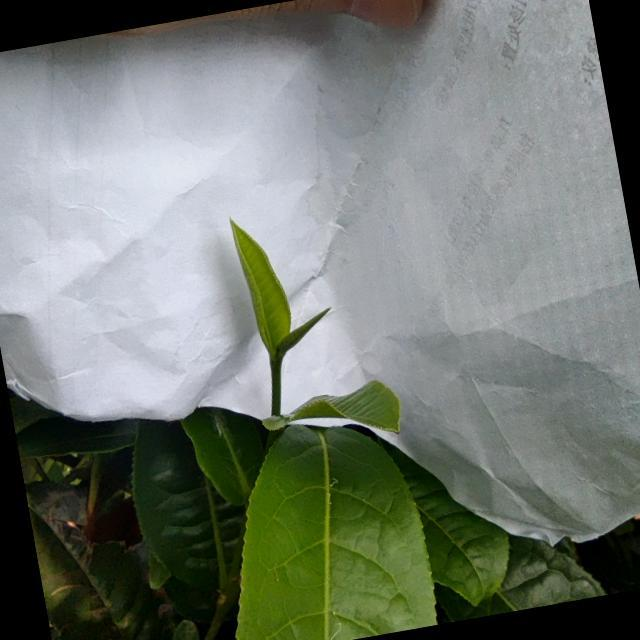Stem: (271, 360, 280, 373)
